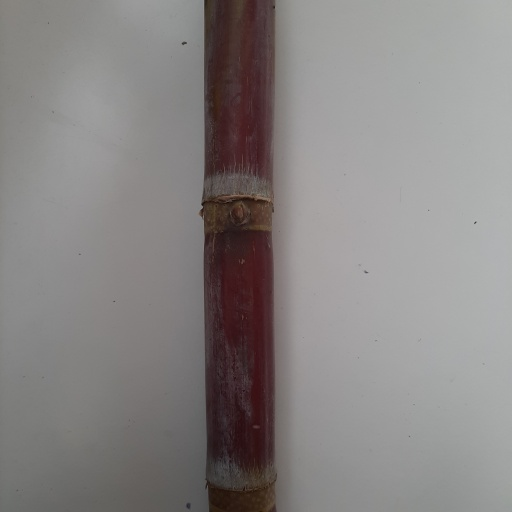Bud: (229, 200, 249, 228)
